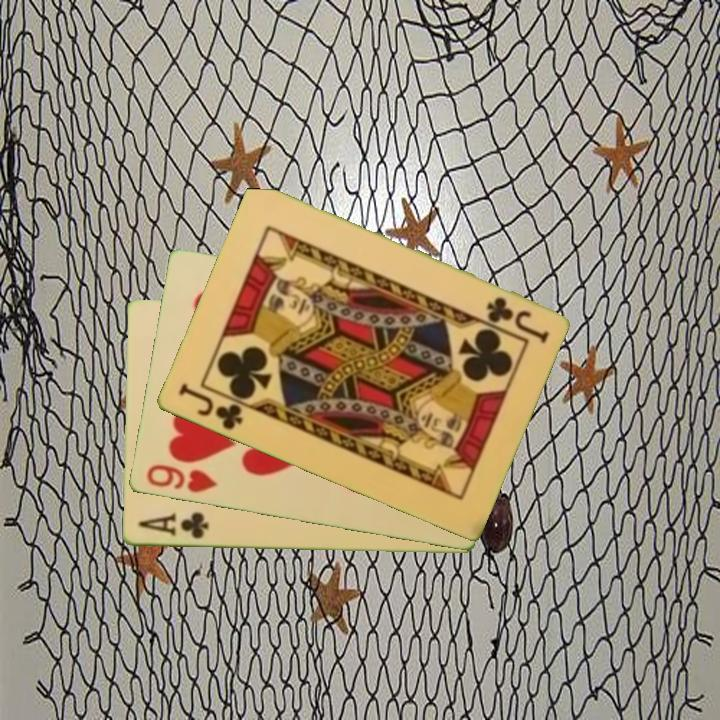9h: (142, 461, 220, 497)
Ac: (134, 509, 211, 542)
Jc: (174, 380, 245, 433), (482, 293, 551, 345)
